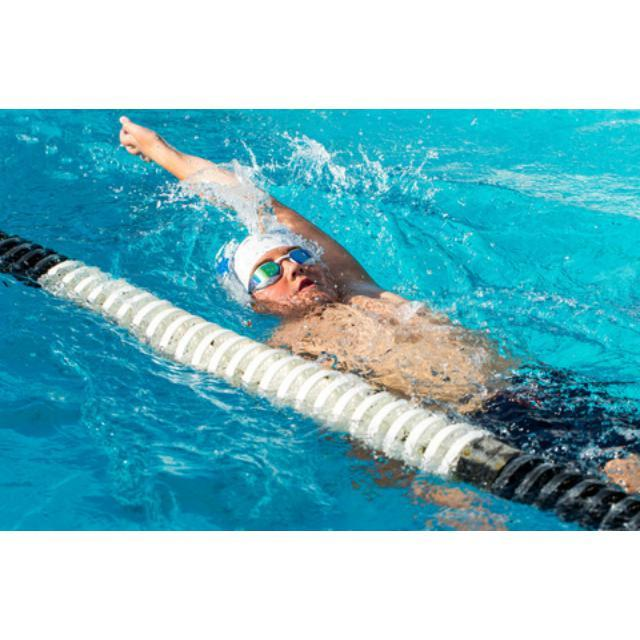human: (119, 117, 639, 501)
